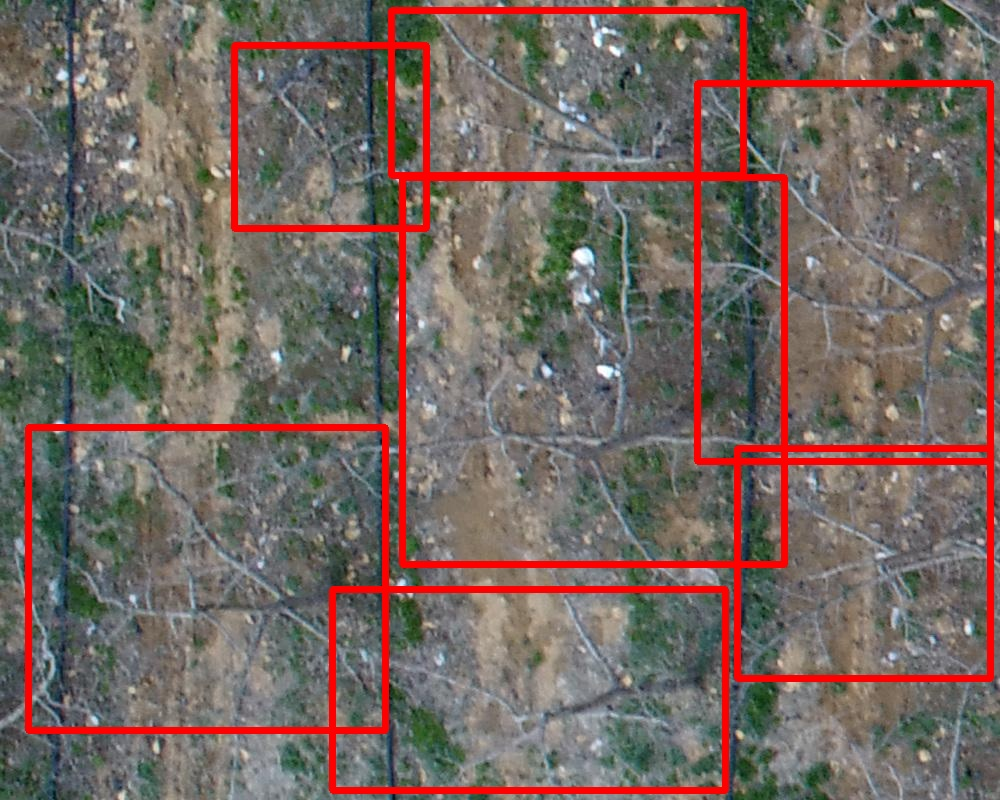apple: (402, 177, 784, 564), (697, 83, 990, 461), (28, 427, 385, 730), (332, 589, 725, 790), (737, 448, 990, 678), (391, 10, 743, 175), (234, 45, 426, 228)
